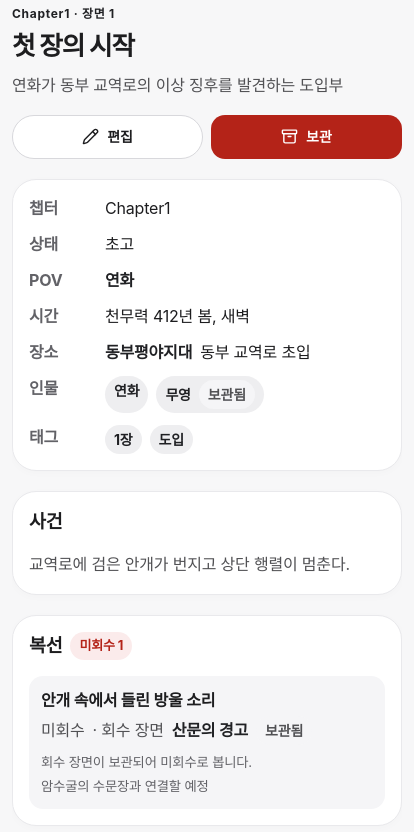
Test: Task 10 Plot pages › keeps archived targets labeled without offering them as new choices
The width and height of the screenshot is (414, 832).
Check: the link "무영" is shown, box x1=165 y1=384 x2=191 y2=404
Check: the text "보관됨" next to "무영" is shown, box x1=208 y1=386 x2=246 y2=402
Click the link "편집" at {"x": 108, "y": 136}, box x1=12 y1=114 x2=203 y2=158
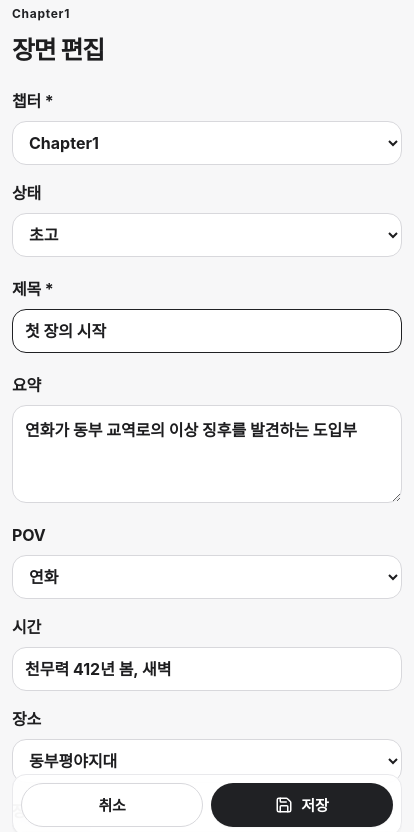
Check: the heading "장면 편집" is shown, box x1=12 y1=35 x2=104 y2=65
Replace the text in the text box labelled "요약" with "보관 대상 유지" at {"x": 207, "y": 454}, box x1=12 y1=405 x2=402 y2=503
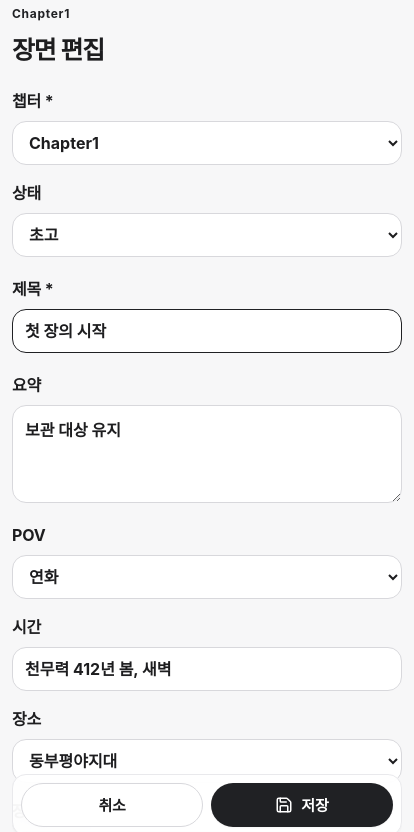
Click the button "저장" at {"x": 302, "y": 805}, box x1=211 y1=783 x2=393 y2=827
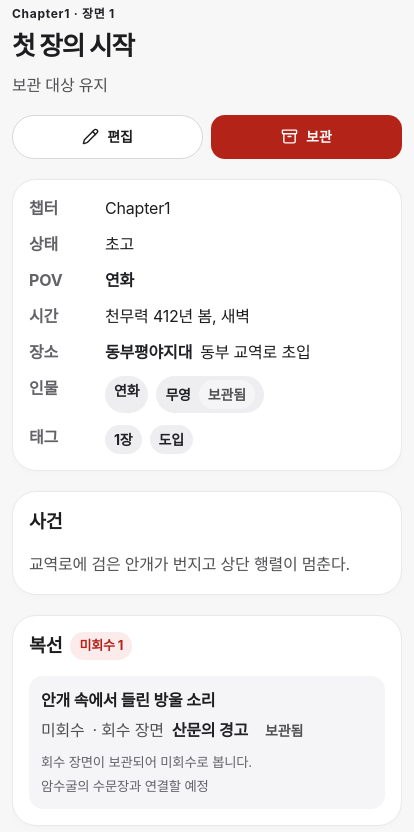
Check: the heading "첫 장의 시작" is shown, box x1=12 y1=32 x2=134 y2=60
